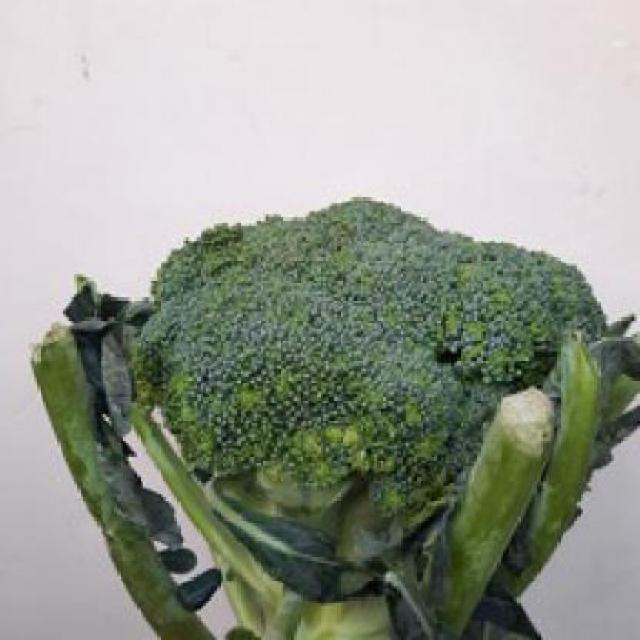broccoli: (74, 215, 617, 634)
